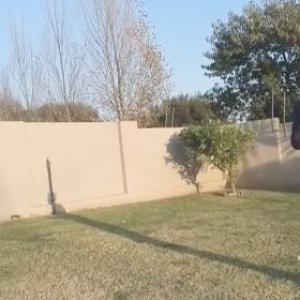follow: (285, 37, 299, 296)
